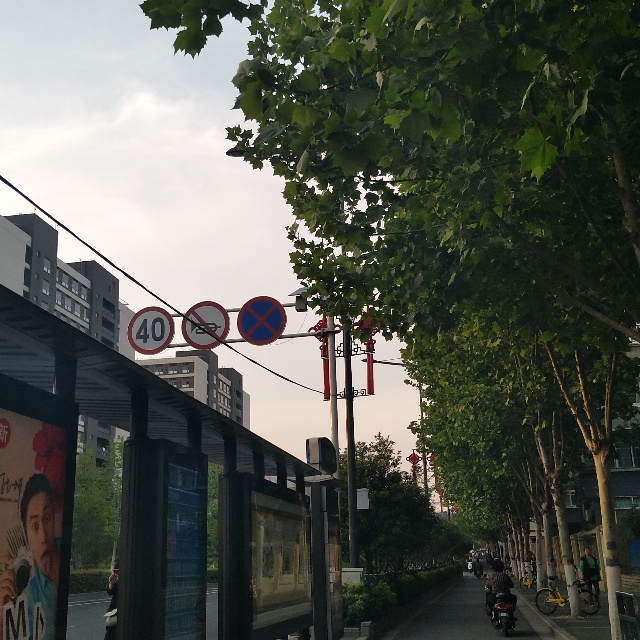nohonk: (182, 304, 231, 343)
stop: (238, 300, 288, 344)
